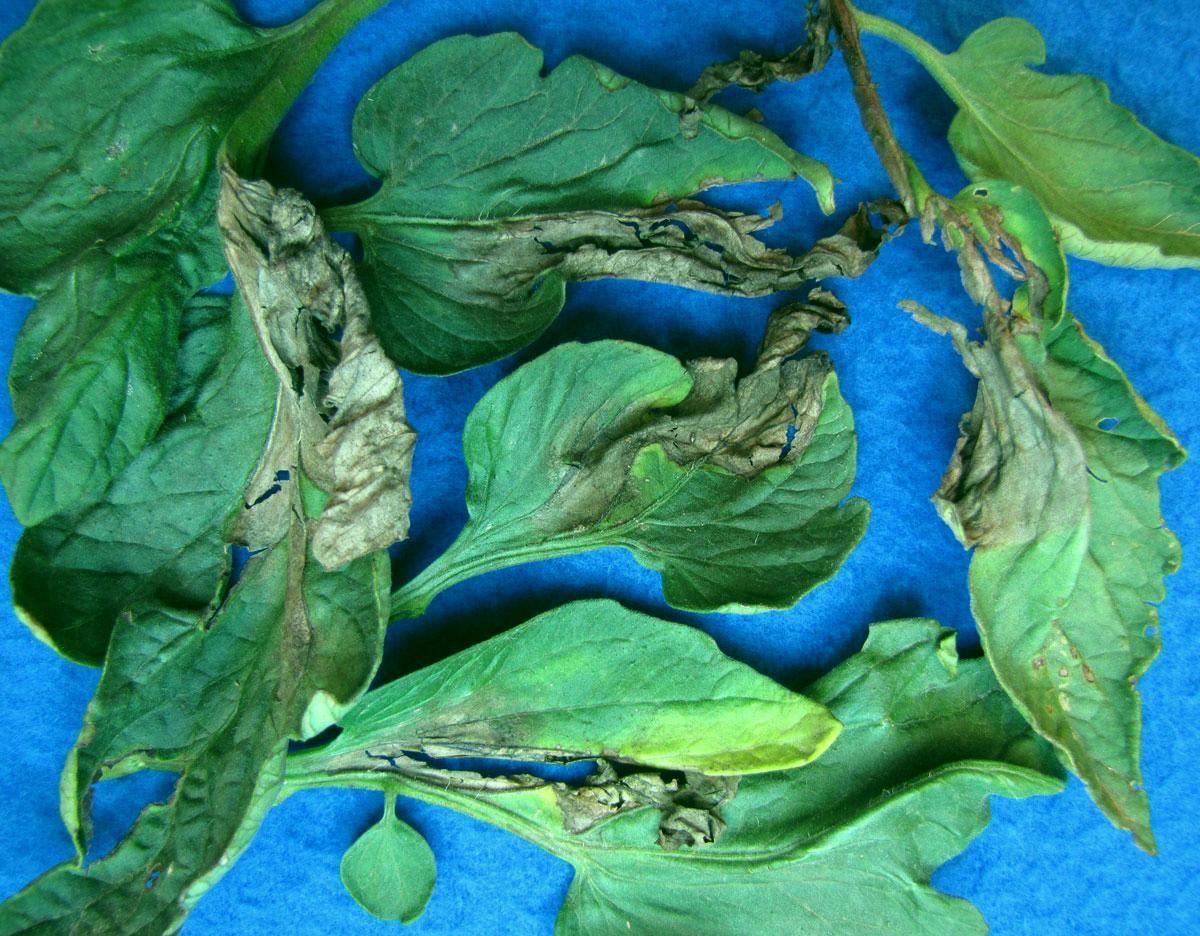Tomato leaf late blight: (12, 243, 421, 923), (281, 39, 879, 383), (908, 215, 1189, 862), (277, 605, 816, 913), (413, 340, 884, 620)
